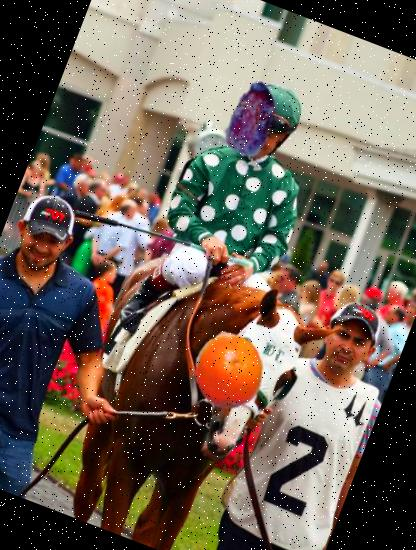Dates: (201, 69, 302, 170)
Tangelo: (178, 320, 278, 421)
